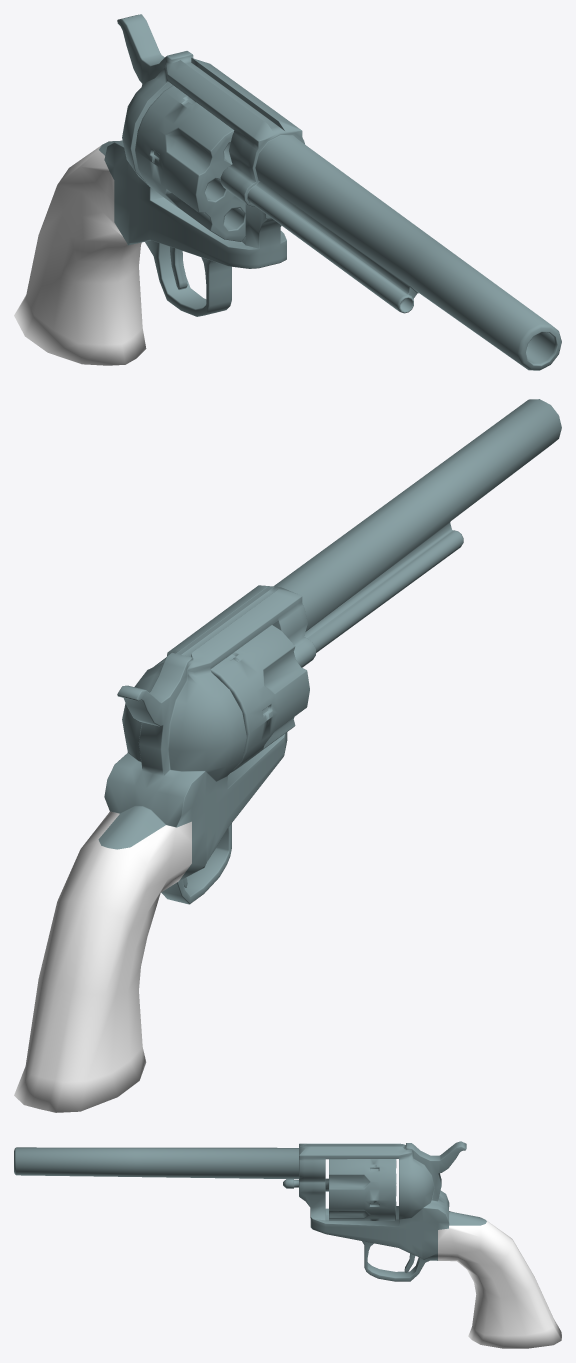
File: SAA3.gltf
3 renders of one model, top to bottom at view 1: azimuth 30°, elevation 25°; view 2: azimuth 150°, elevation 25°; view 3: azimuth 270°, elevation 25°, orthographic. The views are drawn at different scales.
Parts seen in each view (by area): view 1: Plane; view 2: Plane; view 3: Plane.
Boxes of the visible parts, box(x1,y1,x2,y2) form: Plane: box(14, 14, 561, 370); Plane: box(14, 399, 561, 1112); Plane: box(14, 1141, 561, 1348).
Size of the model in its own units: 0.5877 by 1.7 by 4.39.
